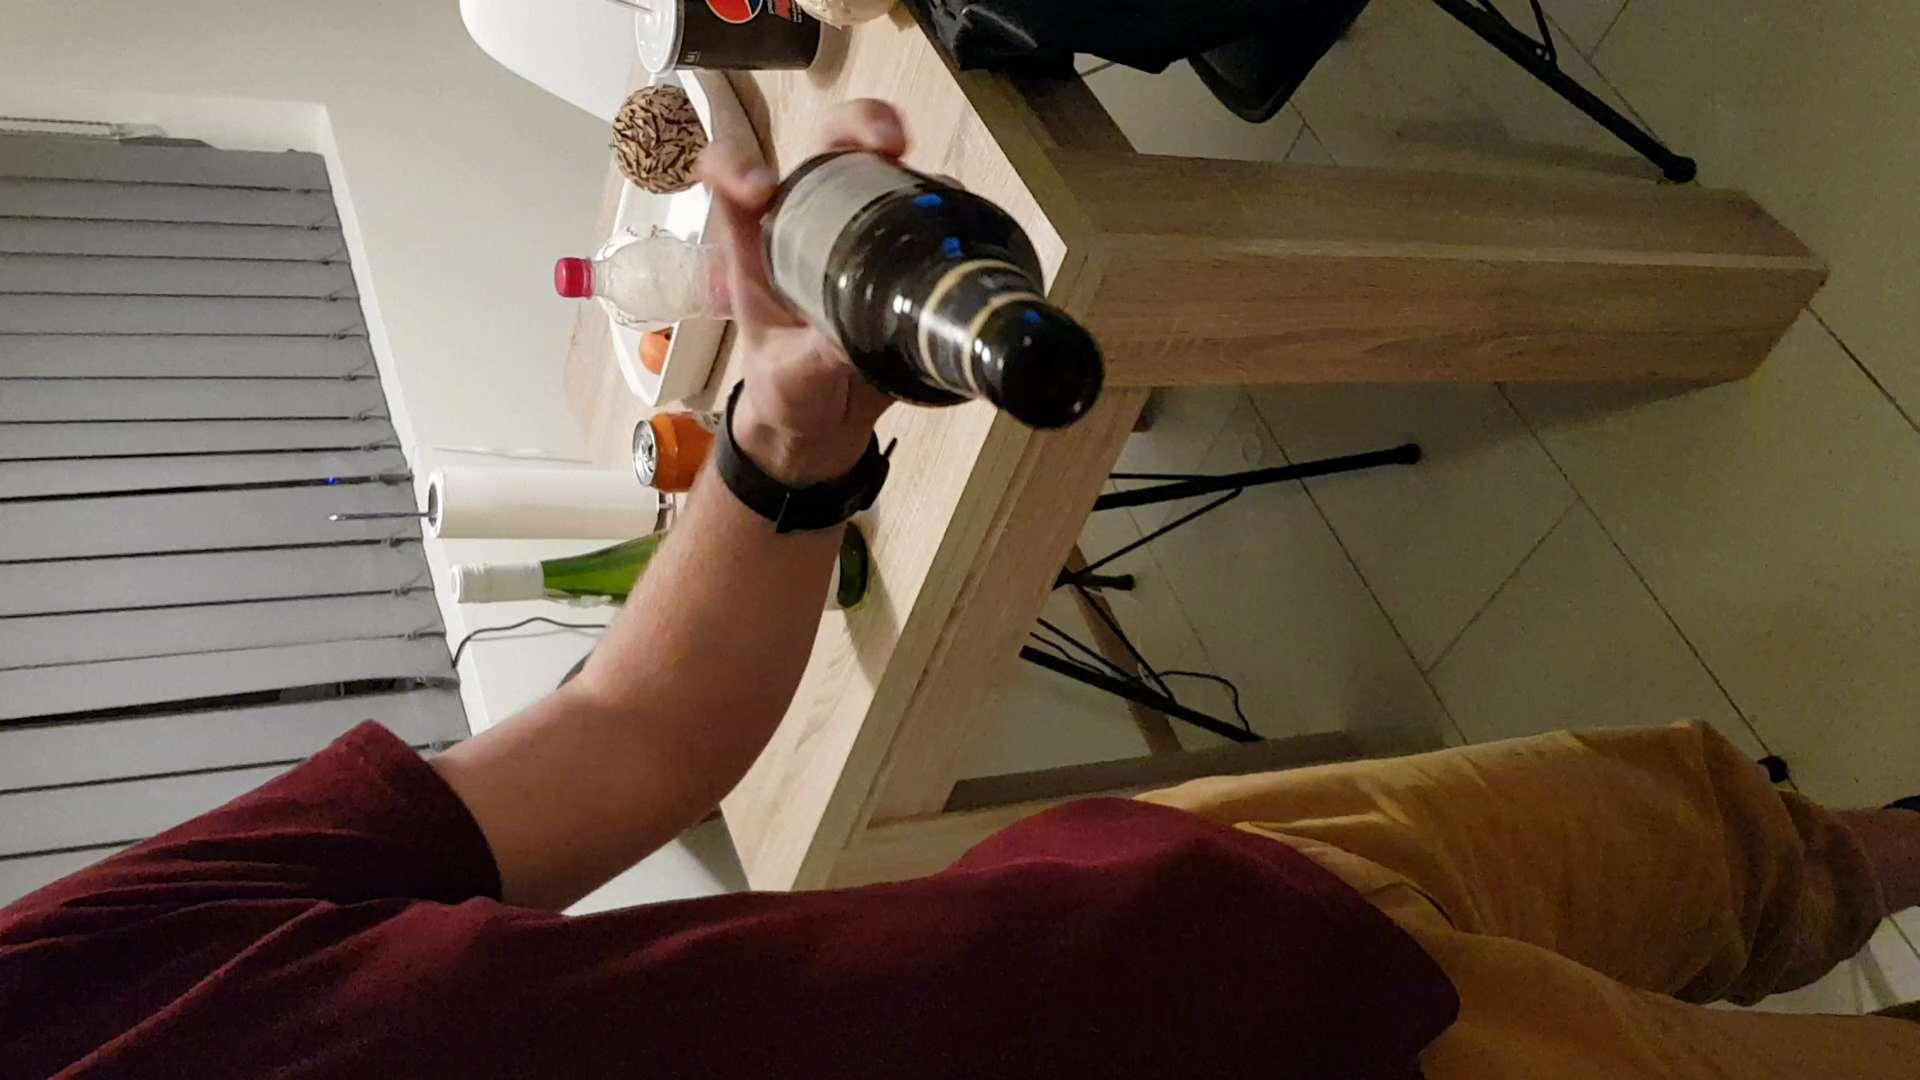Bottle: (756, 142, 1106, 448)
Sphere: (611, 73, 723, 196)
